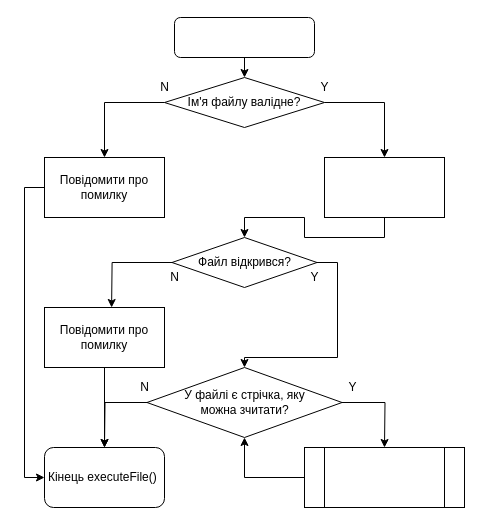
This 482x525 diagram has some shape labels left out. The centre of each missing label's shape, as x and y in pixels:
Виконати команди в стрічці: the point at 384,477
Відкрити файл: the point at 384,187
Початок executeFile(): the point at 244,37
